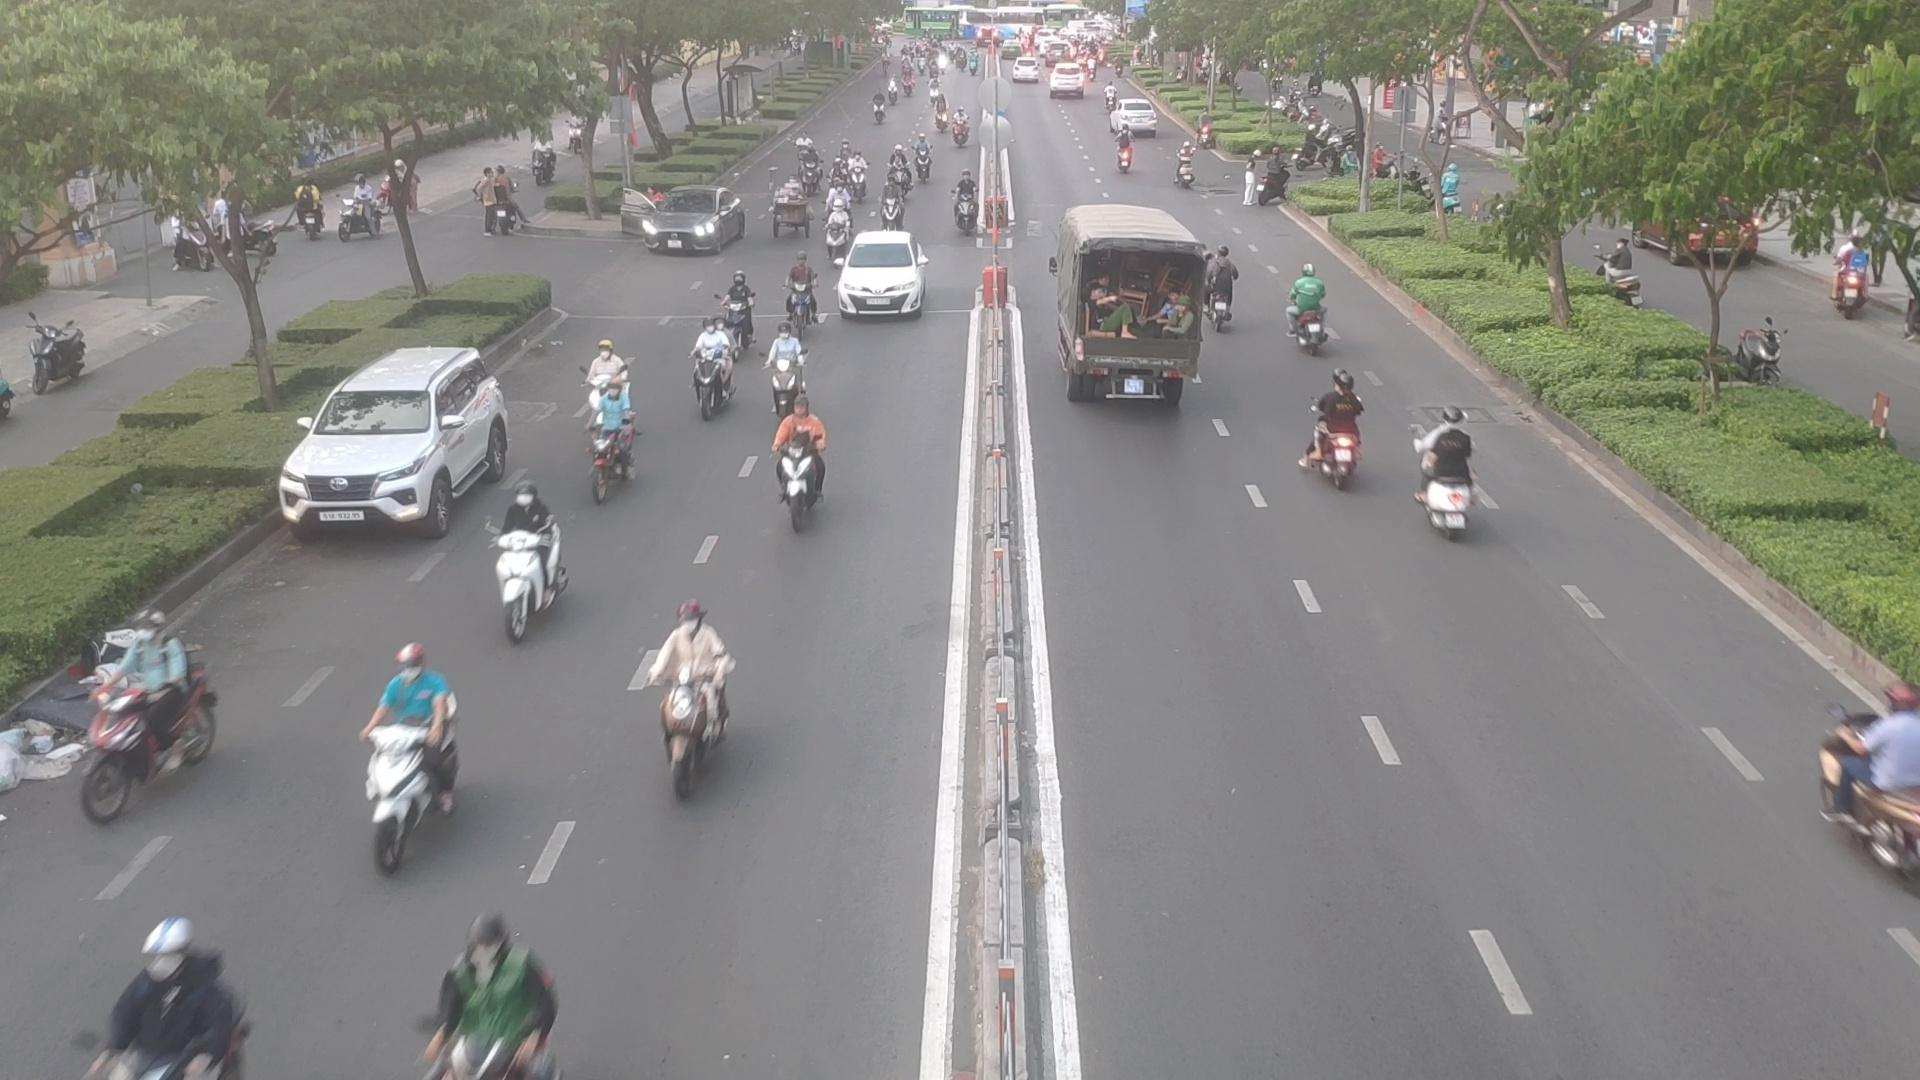car: (286, 351, 522, 542), (618, 191, 750, 258), (833, 236, 928, 322)
motorbike: (71, 612, 222, 815), (357, 661, 467, 870), (99, 928, 243, 1080), (1811, 709, 1920, 891), (419, 931, 553, 1080), (633, 615, 740, 787), (483, 491, 585, 641), (769, 407, 845, 535), (1414, 411, 1485, 535), (584, 384, 647, 500), (1308, 381, 1377, 479), (1279, 266, 1338, 356), (688, 330, 741, 418), (785, 262, 824, 334), (717, 280, 761, 344), (1211, 240, 1240, 331), (769, 328, 815, 384), (1106, 135, 1139, 174), (825, 214, 855, 258), (952, 187, 980, 233), (1171, 146, 1200, 189), (884, 152, 910, 191), (876, 189, 901, 229), (802, 156, 828, 194), (915, 145, 939, 183)
